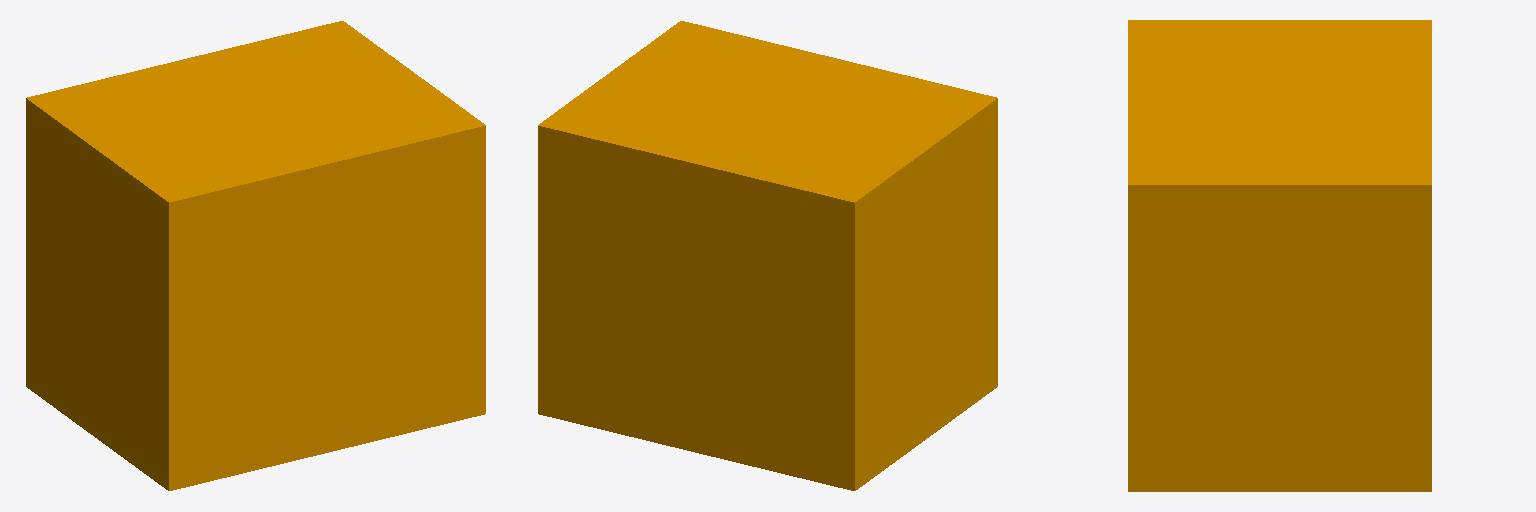
URDF robot description (object):
<robot name="object">
  <link name="object">
    <visual>
      <origin xyz="0 0 0" />
      <geometry>
        <box size="0.09200000000000003 0.07200000000000001 0.08" />
      </geometry>
    </visual>

    <collision>
      <origin xyz="0 0 0" />
      <geometry>
        <box size="0.09200000000000003 0.07200000000000001 0.08" />
      </geometry>
    </collision>

    <inertial>
      <mass value="0.05" />
      <inertia ixx="0.0001" ixy="0.0" ixz="0.0" iyy="0.0001" iyz="0.0" izz="0.0001" />
    </inertial>
  </link>
</robot>

--- What the picture shows (computed from the rendered views, not written in the file) ---
The picture shows the robot from 3 angles, left to right: view 1: azimuth 30°, elevation 25°; view 2: azimuth 150°, elevation 25°; view 3: azimuth 270°, elevation 25°; orthographic projection.
Model object with 1 links and 0 joints (none), rooted at object, posed all joints at 0.
Visible links, largest first — view 1: object; view 2: object; view 3: object.
Boxes of the visible links, x1,y1,x2,y2 form: object: [26, 21, 485, 490]; object: [538, 21, 997, 490]; object: [1128, 20, 1431, 491].
Bounding box of the posed robot: 0.092 × 0.072 × 0.08 m (x, y, z).
Geometry: primitives only (box / cylinder / sphere), no mesh files.